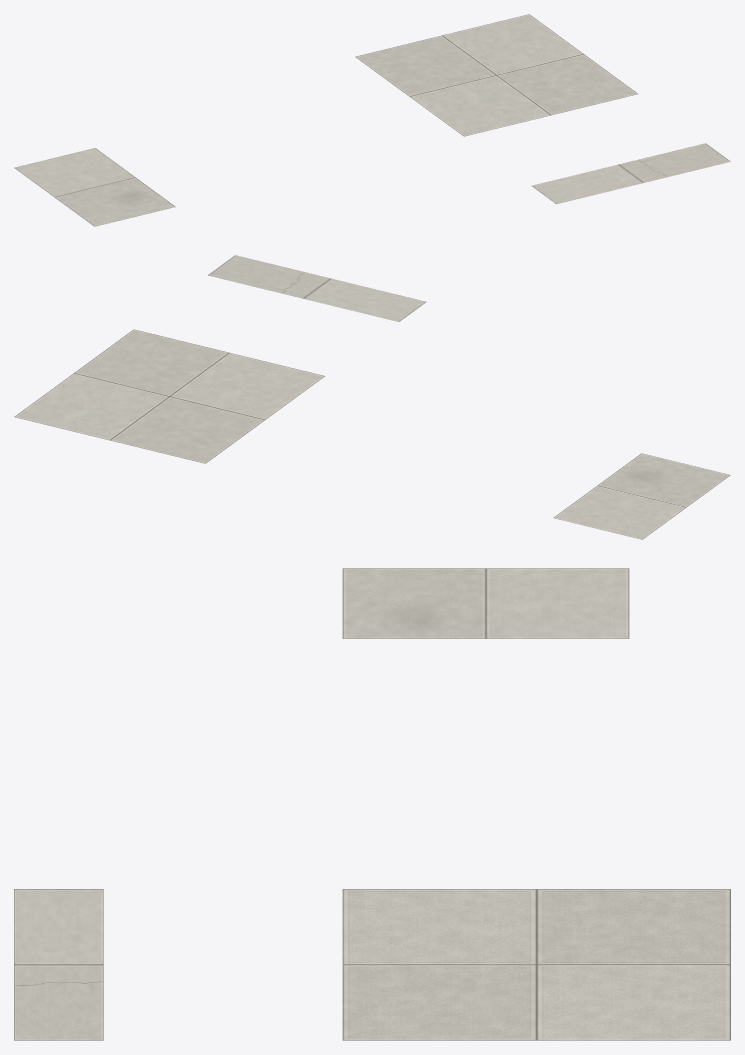
The model's file is paving_p1_lot.gltf.
3 views of the same model, one above another, from view 1: azimuth 30°, elevation 25°; view 2: azimuth 150°, elevation 25°; view 3: azimuth 270°, elevation 25° (orthographic). The views are drawn at different scales.
Visible parts, largest first — view 1: paving_p1_lot; view 2: paving_p1_lot; view 3: paving_p1_lot.
Part boxes in pixels (x1=…): paving_p1_lot: x1=14, y1=14, x2=730, y2=226; paving_p1_lot: x1=14, y1=255, x2=730, y2=539; paving_p1_lot: x1=14, y1=568, x2=730, y2=1040.
Bounding box in the file's own units: 9.35 × 0 × 6.
Materials: 1 (1 with a texture image).
